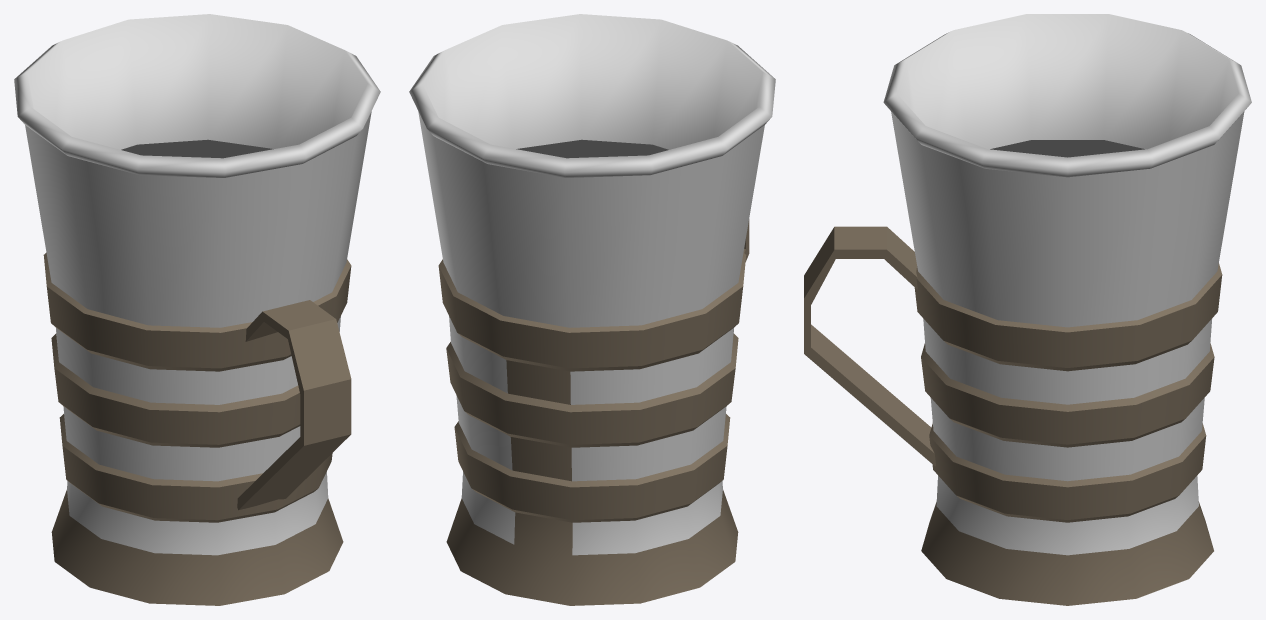
The model's file is CoffeeCup.fbx.
3 views of the same model, side by side, from view 1: azimuth 30°, elevation 25°; view 2: azimuth 150°, elevation 25°; view 3: azimuth 270°, elevation 25° (orthographic).
Parts seen in each view (by area): view 1: CoffeeCup; view 2: CoffeeCup; view 3: CoffeeCup.
Part boxes in pixels (left/top/right/bottom): CoffeeCup: left=14, top=14, right=380, bottom=605; CoffeeCup: left=409, top=14, right=775, bottom=605; CoffeeCup: left=804, top=14, right=1251, bottom=605.
Size of the model in its own units: 7.08 by 9.8 by 8.67.
